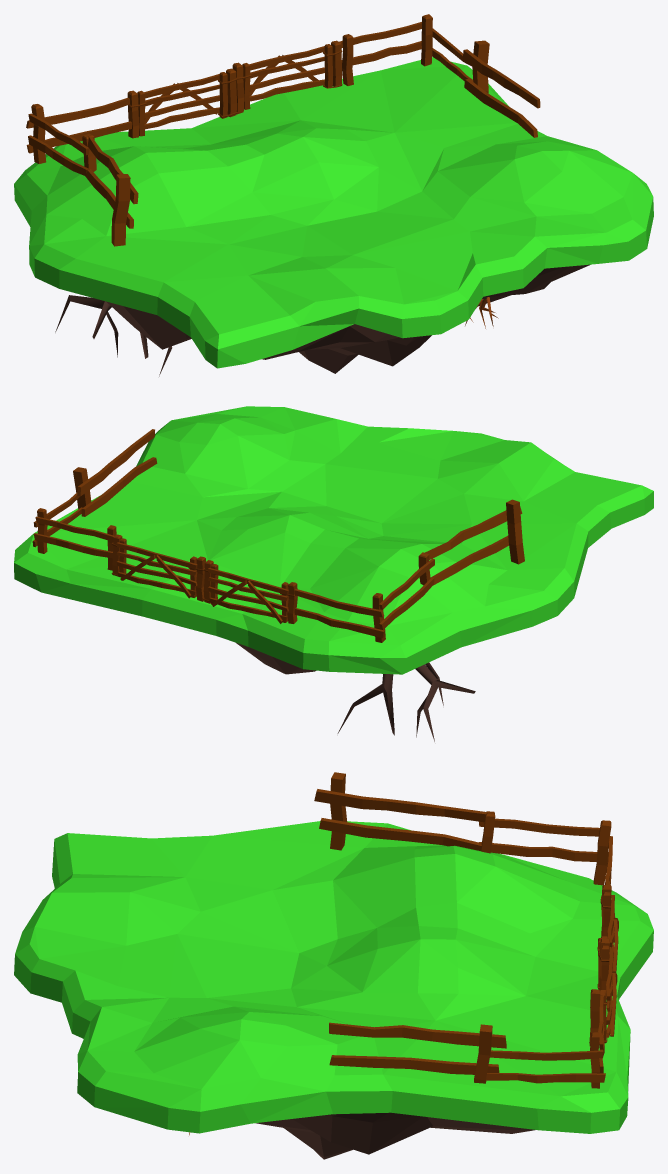
File: IslaInicial.fbx
The picture shows the model from 3 angles, top to bottom: view 1: azimuth 30°, elevation 25°; view 2: azimuth 150°, elevation 25°; view 3: azimuth 270°, elevation 25°; orthographic projection. The views are drawn at different scales.
Visible parts, largest first — view 1: Fence_1; view 2: Fence_1; view 3: Fence_1.
Part boxes in pixels (x1,y1,x2,y2): Fence_1: (14, 14, 653, 376); Fence_1: (14, 406, 653, 741); Fence_1: (14, 772, 653, 1159).
Size of the model in its own units: 10471 by 4675 by 9765.
